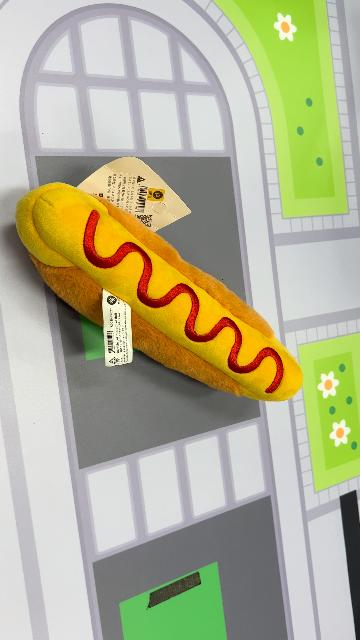hotdog: (15, 182, 305, 404)
